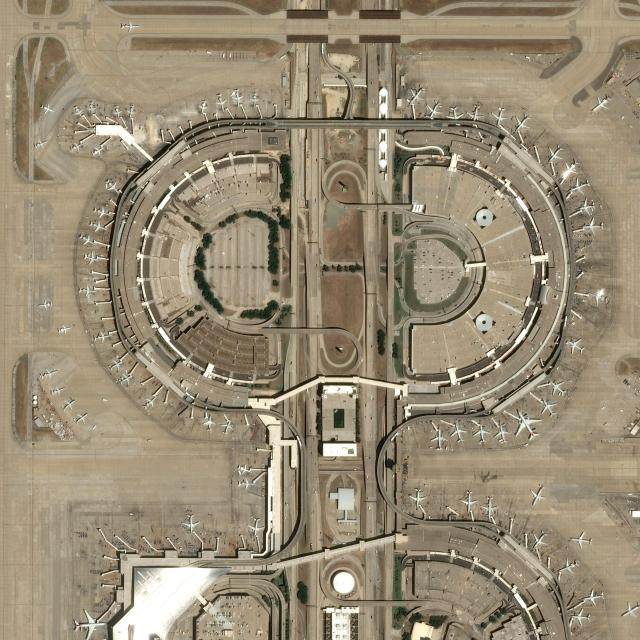1: (621, 600, 639, 620)
aircraft: (71, 608, 105, 639), (513, 408, 541, 439), (569, 529, 594, 549), (428, 429, 448, 451), (588, 286, 610, 306), (570, 606, 590, 626), (528, 484, 546, 506), (480, 496, 498, 518), (460, 490, 478, 512), (471, 422, 489, 444), (582, 216, 604, 234), (580, 588, 604, 604), (556, 558, 580, 574), (538, 397, 557, 417), (590, 94, 610, 113), (406, 85, 425, 105), (408, 486, 426, 507), (570, 176, 590, 194), (426, 100, 444, 120), (247, 517, 265, 537), (182, 513, 200, 533), (549, 378, 567, 397), (546, 143, 564, 162), (445, 104, 464, 122), (449, 424, 466, 444), (562, 159, 580, 177), (466, 104, 484, 122), (494, 423, 510, 443), (491, 106, 507, 126), (567, 337, 585, 354), (576, 198, 594, 215), (514, 113, 530, 132), (532, 530, 548, 548), (220, 418, 236, 435), (118, 19, 139, 31), (77, 232, 95, 246), (202, 414, 216, 432), (237, 476, 255, 490), (78, 285, 98, 297), (118, 372, 133, 387), (196, 98, 210, 114), (82, 250, 98, 264), (108, 357, 124, 371), (93, 331, 111, 343), (142, 395, 156, 410), (40, 368, 59, 379), (92, 205, 108, 218), (215, 93, 227, 110), (125, 102, 137, 119), (88, 220, 105, 232), (105, 178, 118, 193), (86, 100, 98, 116), (49, 384, 65, 396), (236, 463, 252, 475), (73, 412, 88, 424), (232, 90, 243, 106), (70, 104, 82, 118), (61, 399, 75, 410), (112, 104, 122, 119), (40, 103, 54, 113), (38, 300, 52, 310), (58, 323, 70, 334), (249, 92, 259, 105), (34, 137, 47, 147), (91, 145, 104, 155), (70, 140, 82, 150)
